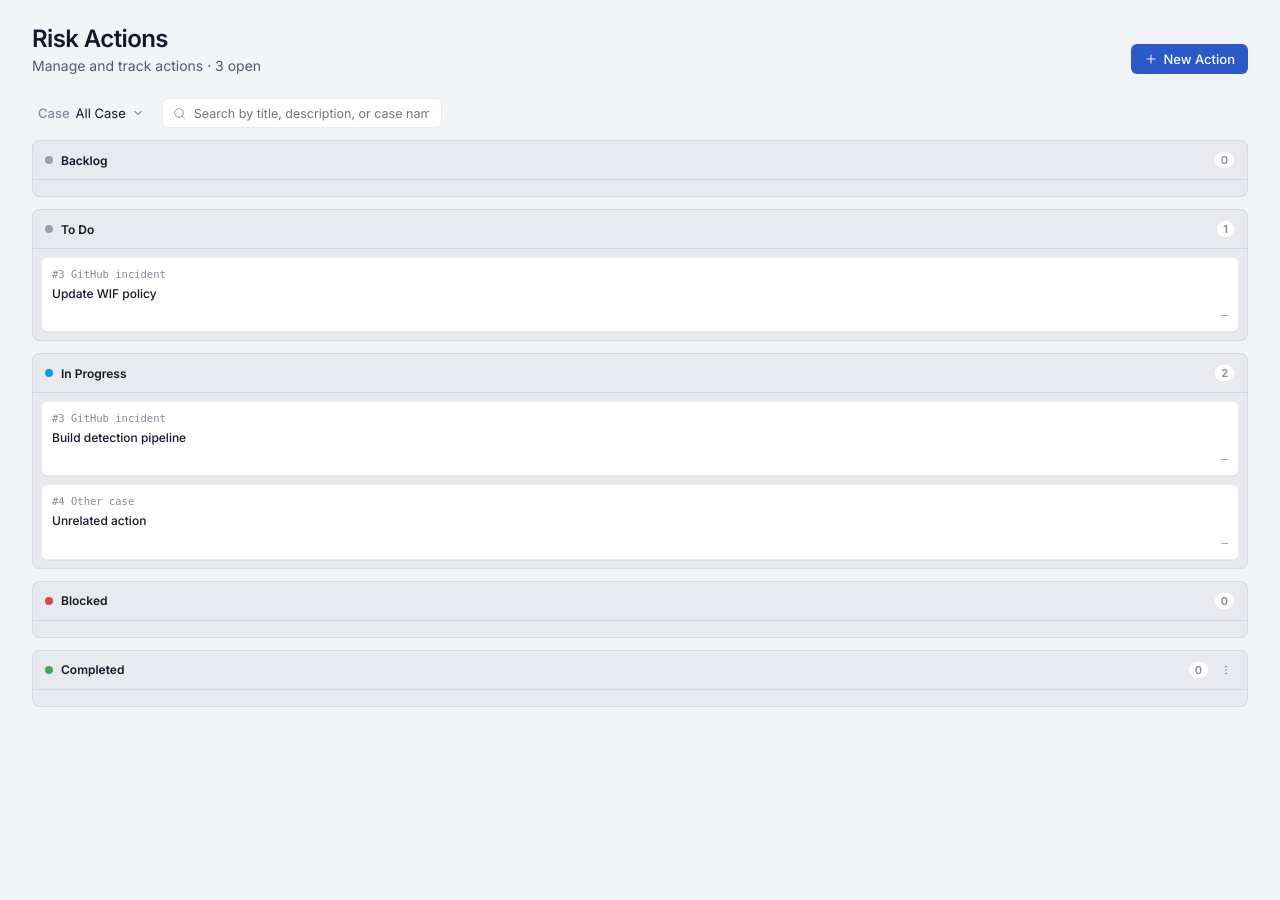
Test case: ActionList completed-column bulk archive › disables the archive item when the completed column is empty
The image size is (1280, 900).
Expected: the number of buttons with test id "action-card" is 3, [41,257,1239,332]; [41,401,1239,476]; [41,484,1239,560]
Click the button with test id "kanban-column-menu-completed" at (1226, 670), box [1217,661,1235,679]
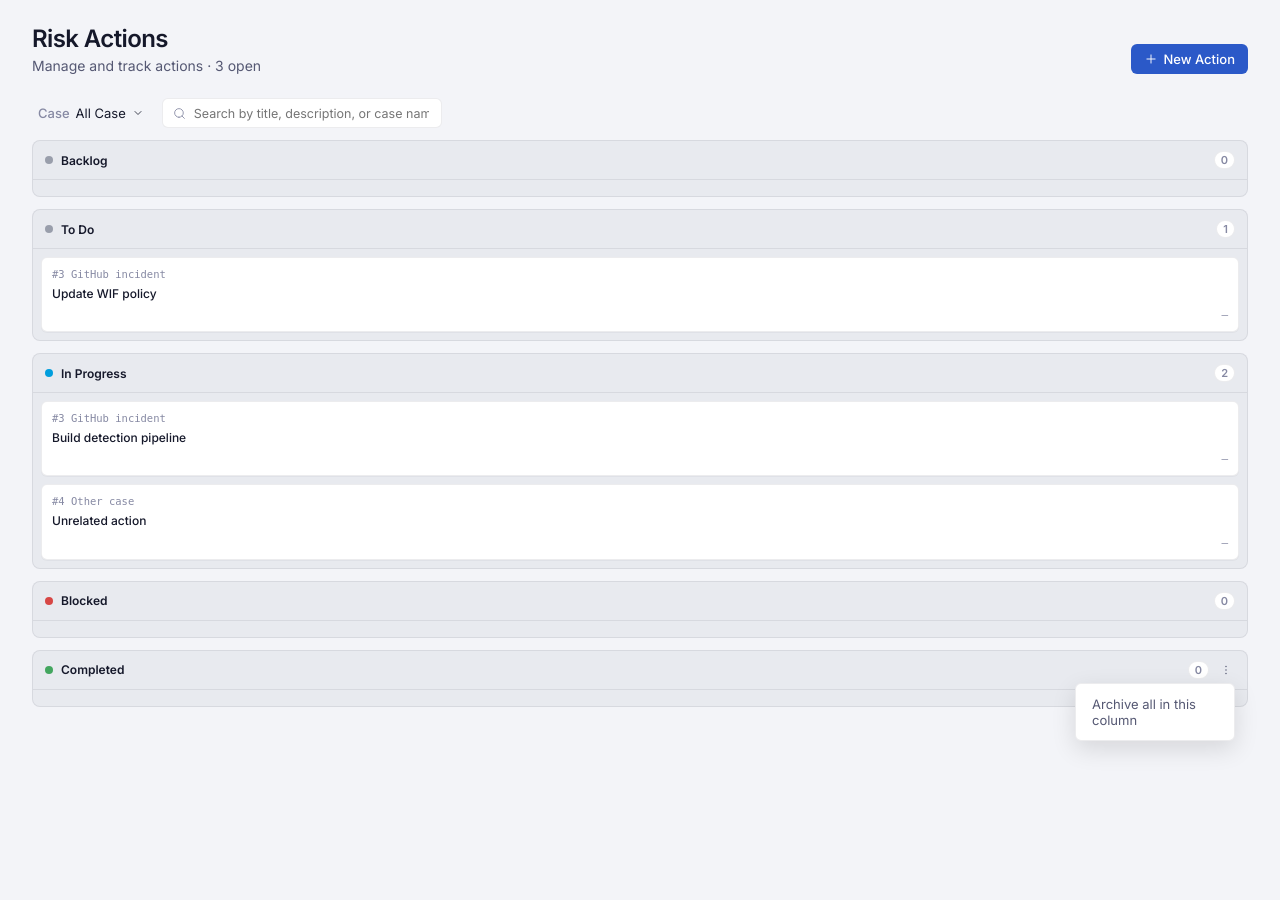
Result: the menu item with test id "kanban-column-archive-all-completed" is disabled at [1080,688,1230,736]
